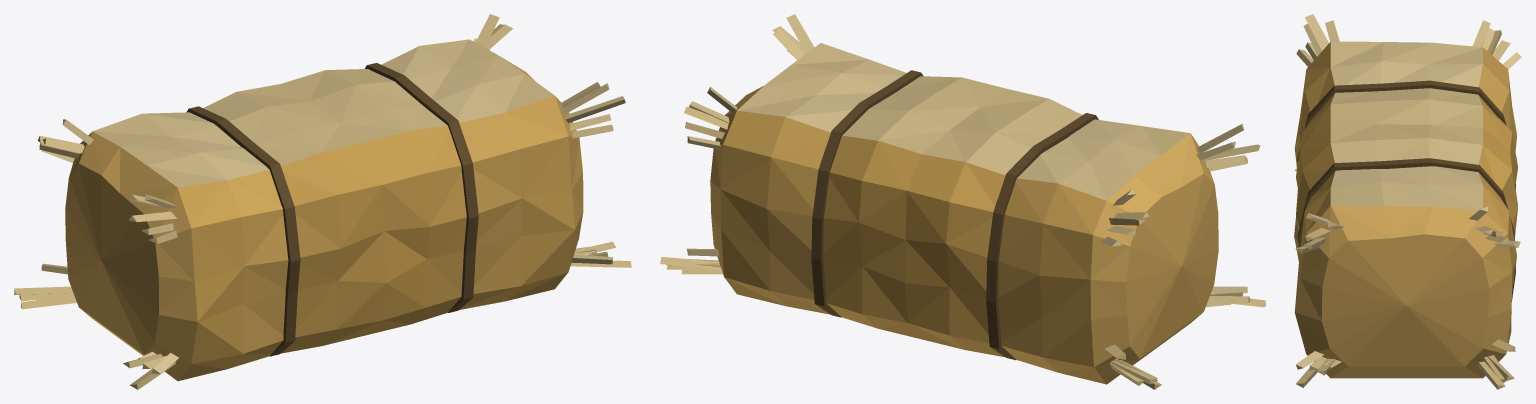
File: porch-straw-bale-c47f80.glb
The picture shows the model from 3 angles, left to right: view 1: azimuth 30°, elevation 25°; view 2: azimuth 150°, elevation 25°; view 3: azimuth 270°, elevation 25°; orthographic projection. The views are drawn at different scales.
Parts seen in each view (by area): view 1: bale; view 2: bale; view 3: bale.
Part boxes in pixels (x1,y1,x2,y2): bale: [14, 14, 631, 389]; bale: [660, 14, 1265, 389]; bale: [1294, 14, 1521, 389].
Bounding box in the file's own units: 1.07 × 0.4162 × 0.4693.
